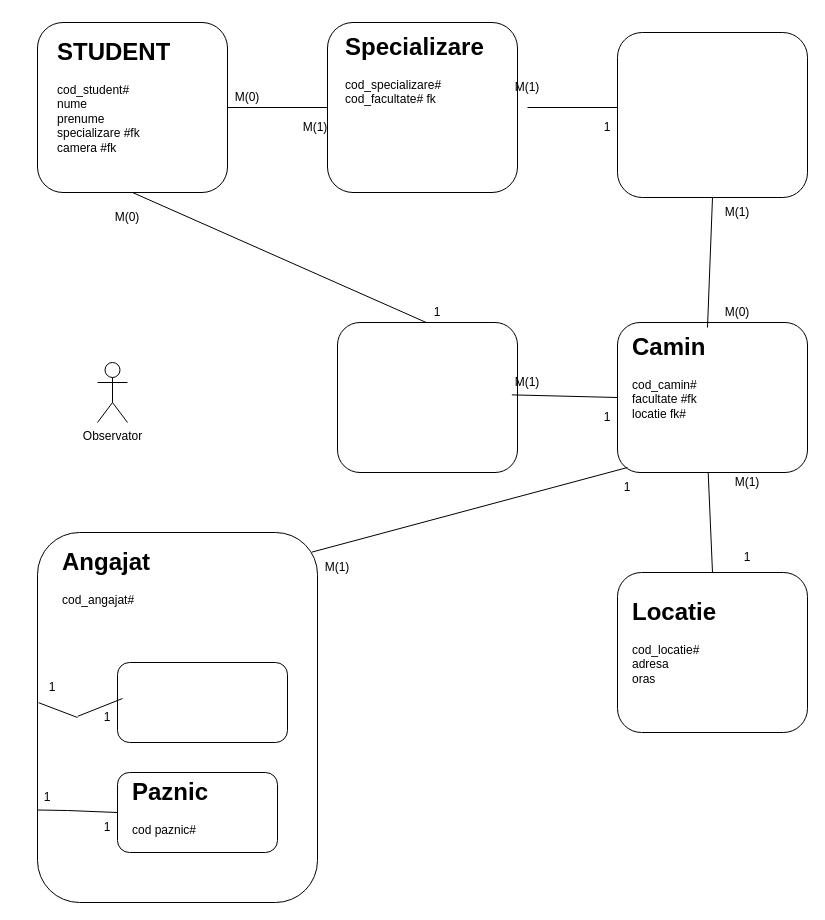
This 825x920 diagram has some shape labels left out. Each missing label, with the centre of its shape:
Administrator cod administrator#: (202,702)
Camera cod_camera# camin# fk: (427,397)
Facultate cod_facultate# nume: (712,115)
